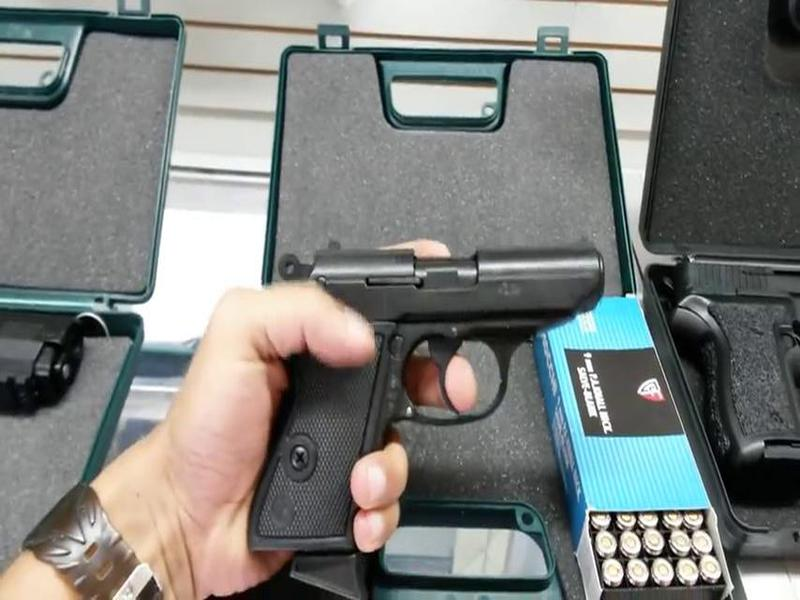Pistola: (237, 197, 590, 574)
